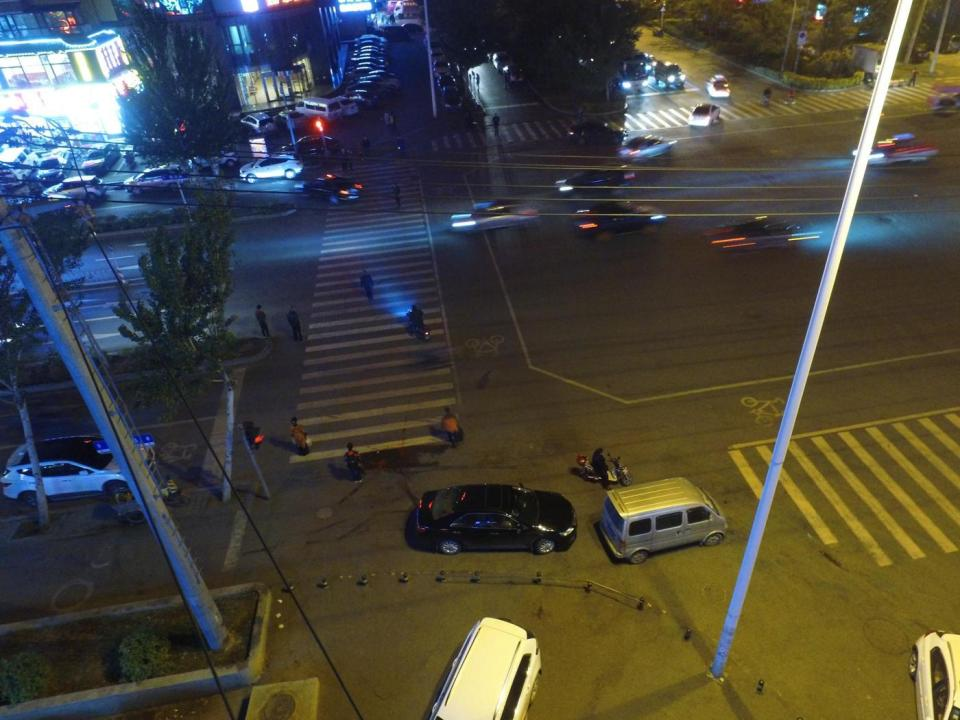bus: (588, 39, 649, 91)
car: (416, 485, 575, 553), (4, 435, 153, 502), (908, 629, 958, 720), (708, 220, 823, 252), (574, 202, 664, 235), (448, 201, 534, 230), (853, 136, 939, 163), (295, 174, 361, 205), (554, 169, 636, 193), (236, 155, 303, 182), (567, 122, 629, 148), (42, 176, 107, 200), (38, 144, 73, 184), (82, 143, 119, 174), (626, 136, 672, 159), (283, 138, 338, 156), (241, 112, 276, 136), (934, 86, 959, 118), (351, 82, 396, 98), (439, 86, 463, 115), (392, 8, 423, 30), (691, 103, 719, 127), (279, 109, 305, 132), (350, 76, 396, 89), (706, 75, 730, 99), (336, 95, 357, 119), (350, 88, 376, 103), (368, 67, 397, 80), (434, 59, 452, 77), (504, 64, 523, 81), (944, 33, 960, 53), (425, 30, 439, 49), (494, 54, 509, 71), (440, 73, 456, 86), (429, 46, 445, 58)
van: (428, 617, 541, 720), (598, 478, 726, 565), (123, 164, 188, 195), (0, 147, 38, 188), (294, 97, 341, 121), (654, 60, 686, 88)
